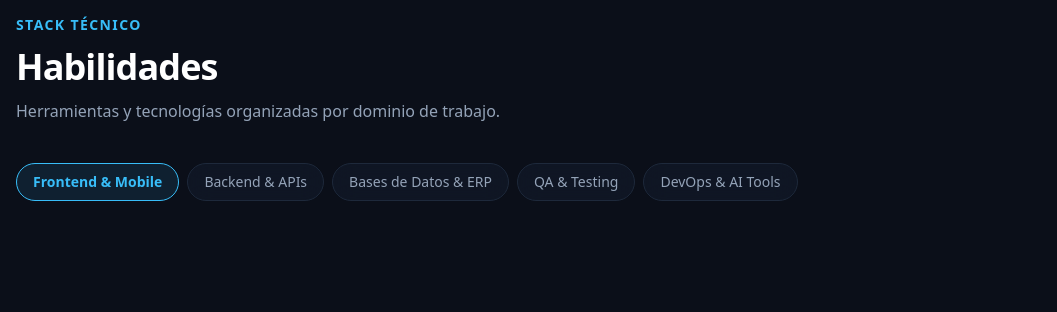
Test case: Skills › cambia el panel de habilidades al seleccionar otra pestaña
The image size is (1057, 312).
Click the tab "QA & Testing": (576, 182) [517, 163, 635, 201]
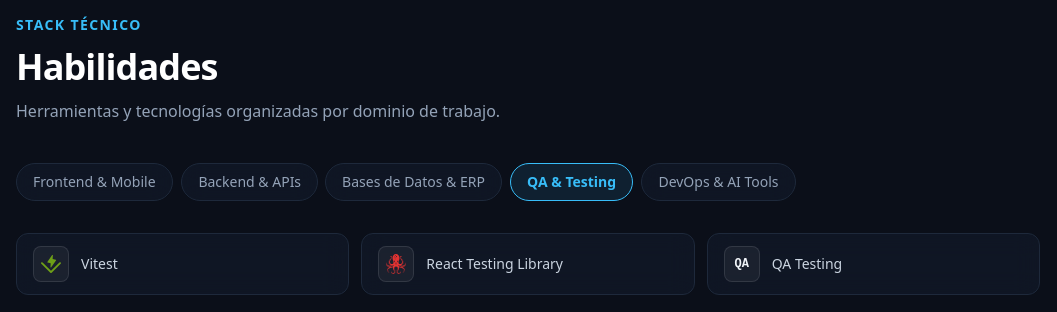
expect the text "Vitest" is shown: met, box [81, 254, 118, 274]
